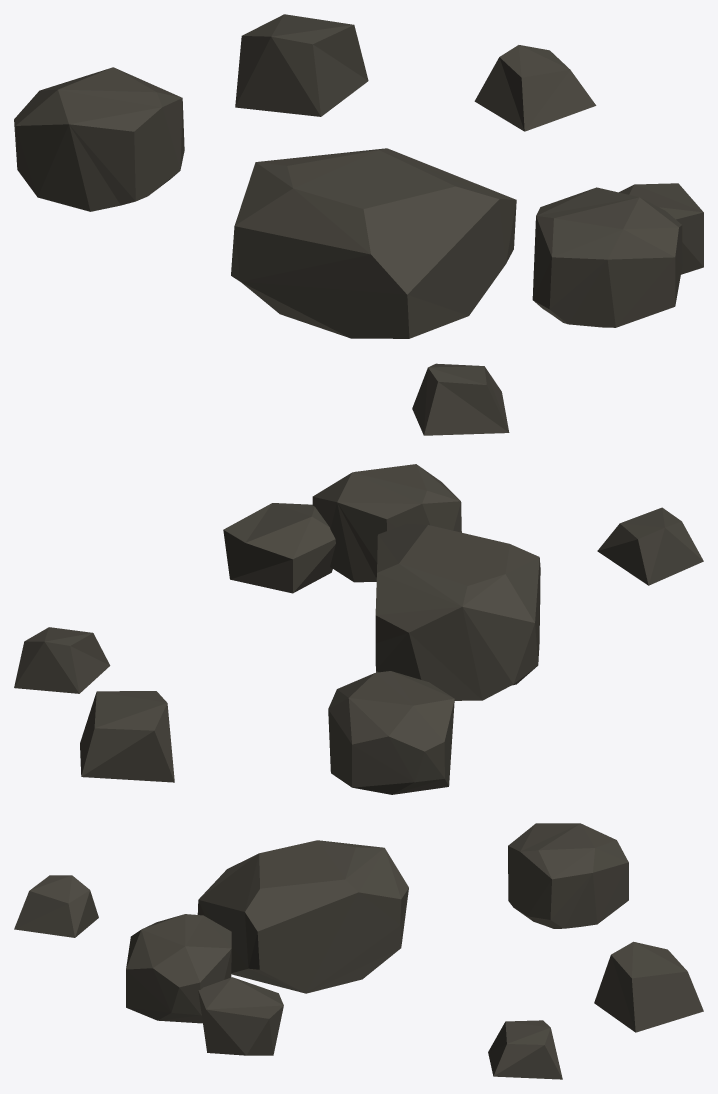
The model's file is synty-terrain-rubble-pebbles-02.gltf.
3 views of the same model, one above another, from view 1: azimuth 30°, elevation 25°; view 2: azimuth 150°, elevation 25°; view 3: azimuth 270°, elevation 25° (orthographic). The views are drawn at different scales.
Visible parts, largest first — view 1: SM_Terrain_Rubble_Pebbles_02; view 2: SM_Terrain_Rubble_Pebbles_02; view 3: SM_Terrain_Rubble_Pebbles_02.
Boxes of the visible parts, box(x1,y1,x2,y2) form: SM_Terrain_Rubble_Pebbles_02: box(14, 14, 703, 435); SM_Terrain_Rubble_Pebbles_02: box(14, 464, 703, 794); SM_Terrain_Rubble_Pebbles_02: box(14, 823, 703, 1079).
Bounding box in the file's own units: 1.09 × 0.2811 × 1.61.
1 material, 1 textured.
